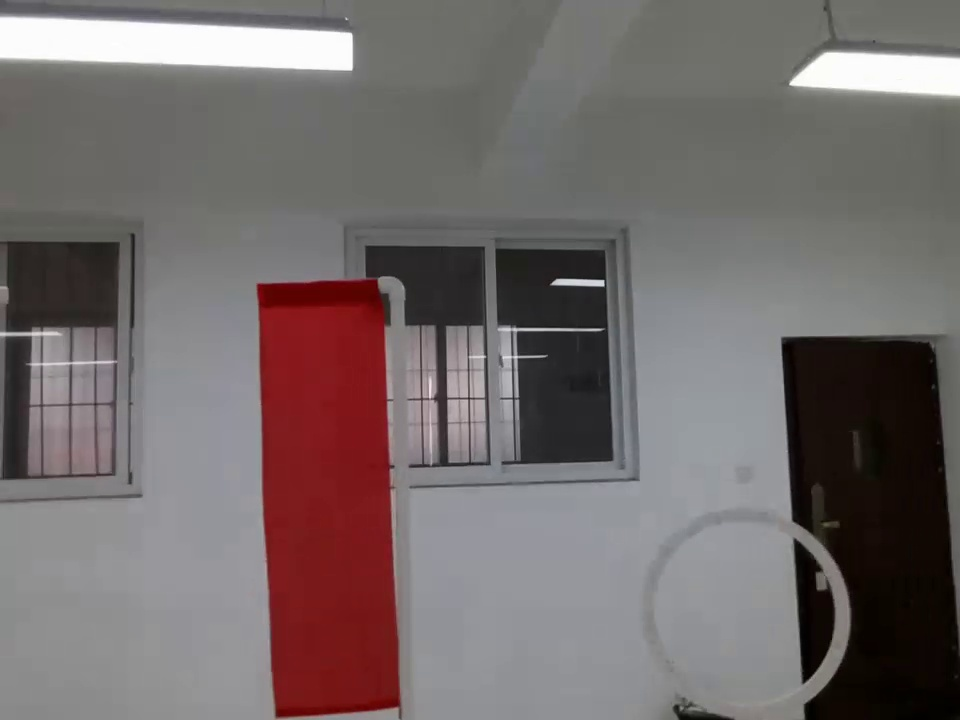qi: (240, 278, 425, 719)
quan: (610, 505, 858, 720)
